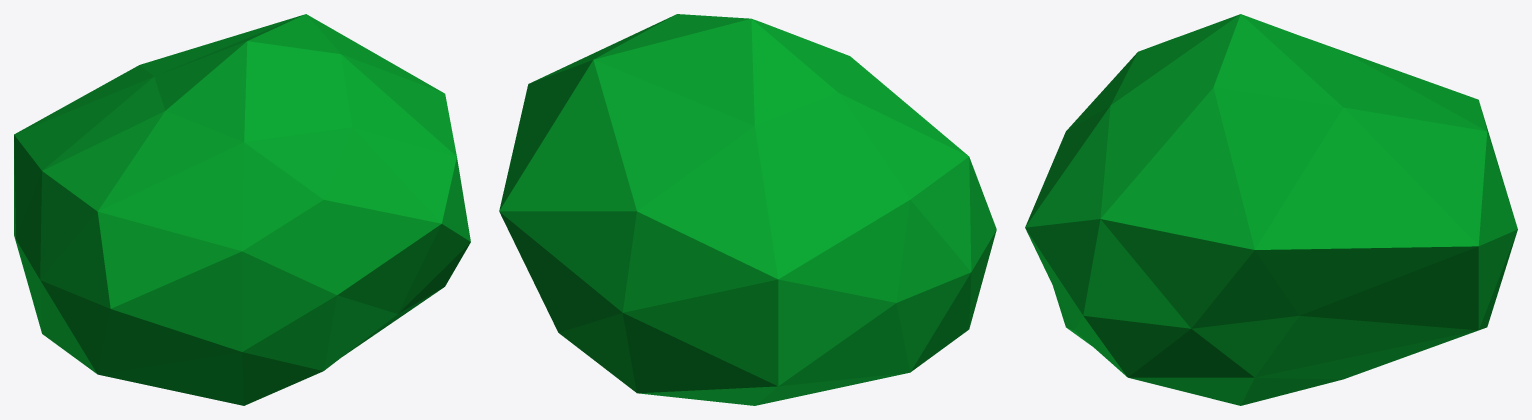
File: TreeLeaves1.obj
3 views of the same model, side by side, from view 1: azimuth 30°, elevation 25°; view 2: azimuth 150°, elevation 25°; view 3: azimuth 270°, elevation 25° (orthographic). The views are drawn at different scales.
Parts seen in each view (by area): view 1: TreeLeaves1; view 2: TreeLeaves1; view 3: TreeLeaves1.
Boxes of the visible parts, x1=… form: TreeLeaves1: x1=14, y1=14, x2=470, y2=405; TreeLeaves1: x1=499, y1=14, x2=996, y2=405; TreeLeaves1: x1=1025, y1=14, x2=1517, y2=405.
Size of the model in its own units: 13.2 by 10.04 by 11.99.
